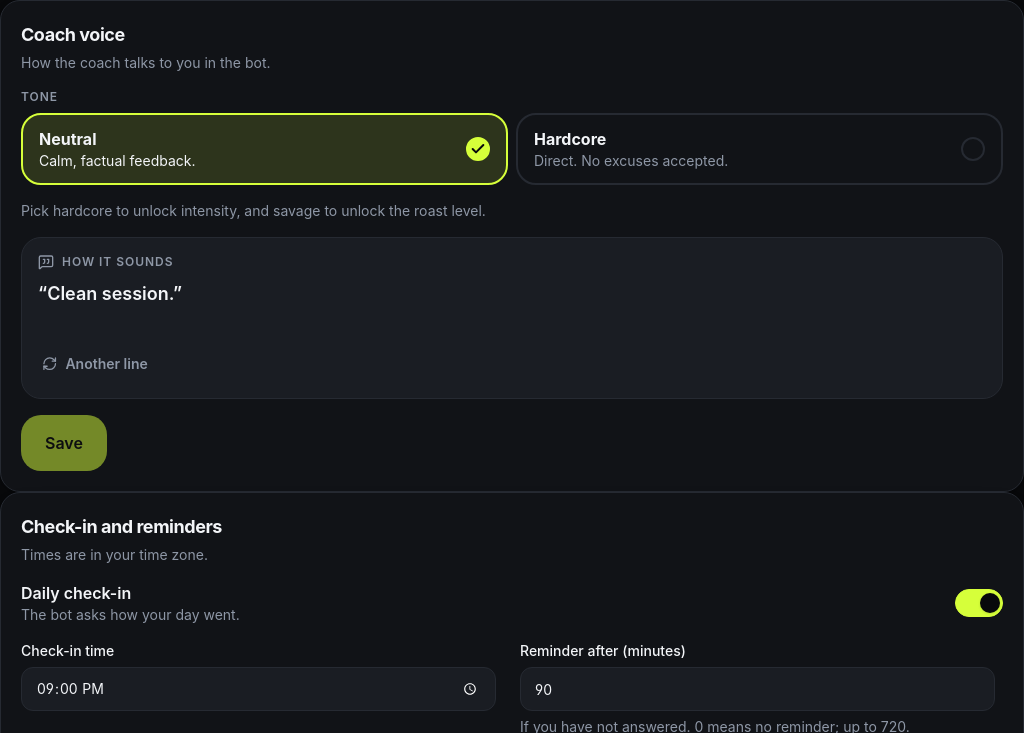
Scenario: Coach & reminders › saves only the changed reminder fields and adopts the API's answer
Replace the text in the field labelled "Reminder after (minutes)" with "30" at [758, 689], box [520,667,995,711]
(page scrolled)
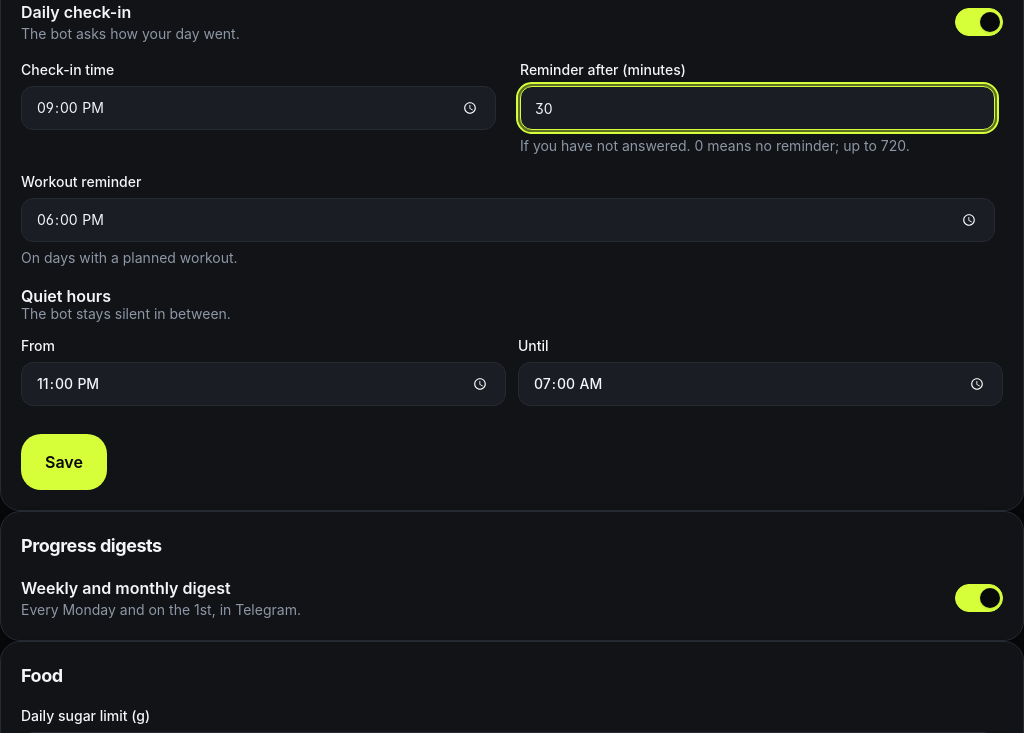
Replace the text in the time field labelled "From" with "22:00" at [264, 384], box [21,362,506,406]
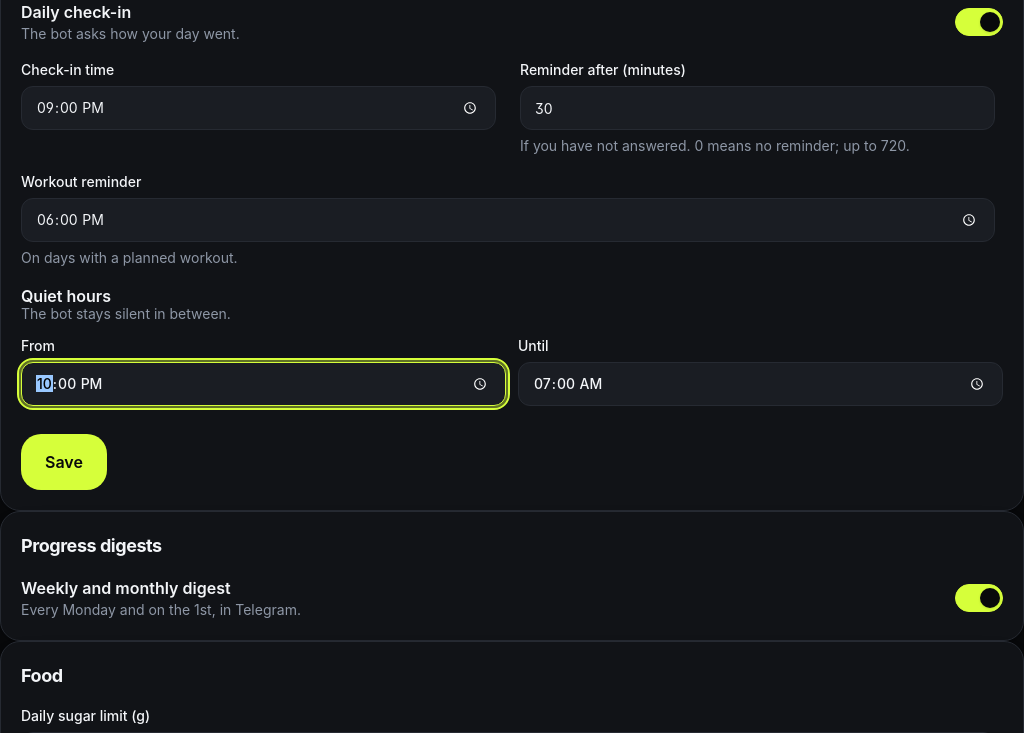
Click the button "Save" at [64, 462], box [21,434,107,490]
(page scrolled)
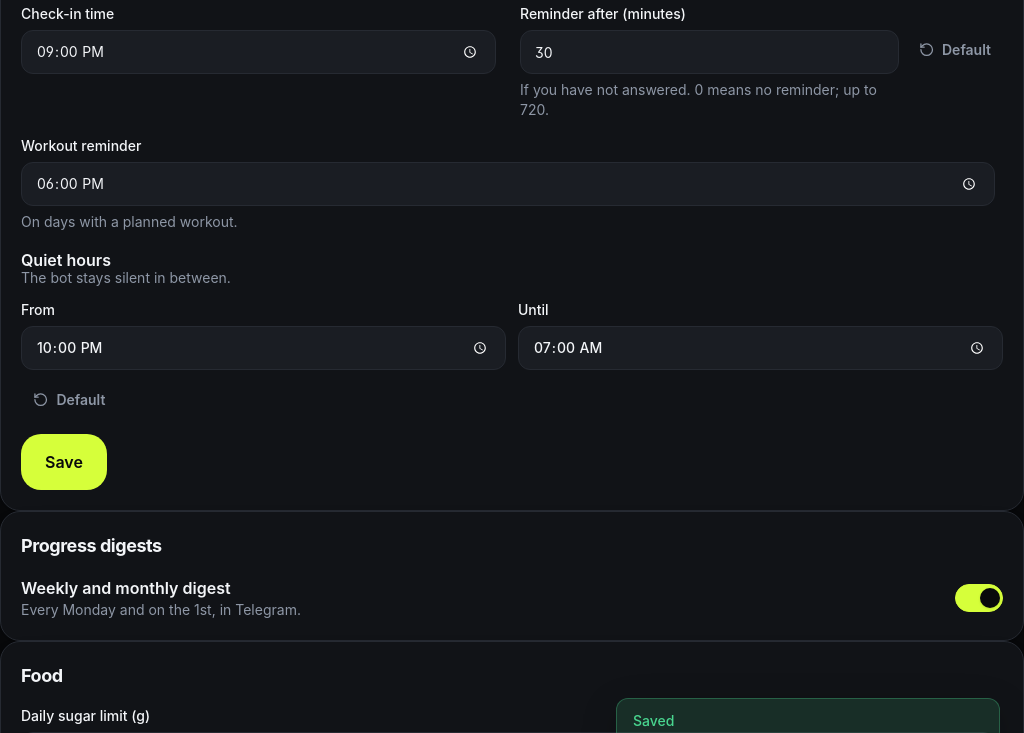
Expected: the button with aria-label "Reset Quiet hours to the default" is shown, [21,382,117,418]
